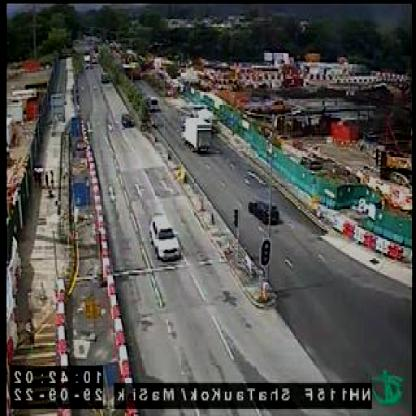Car: (148, 208, 184, 257), (247, 198, 281, 220), (195, 104, 220, 127), (148, 94, 161, 109), (124, 111, 135, 128), (100, 71, 112, 83)
Truck: (180, 112, 210, 150)
